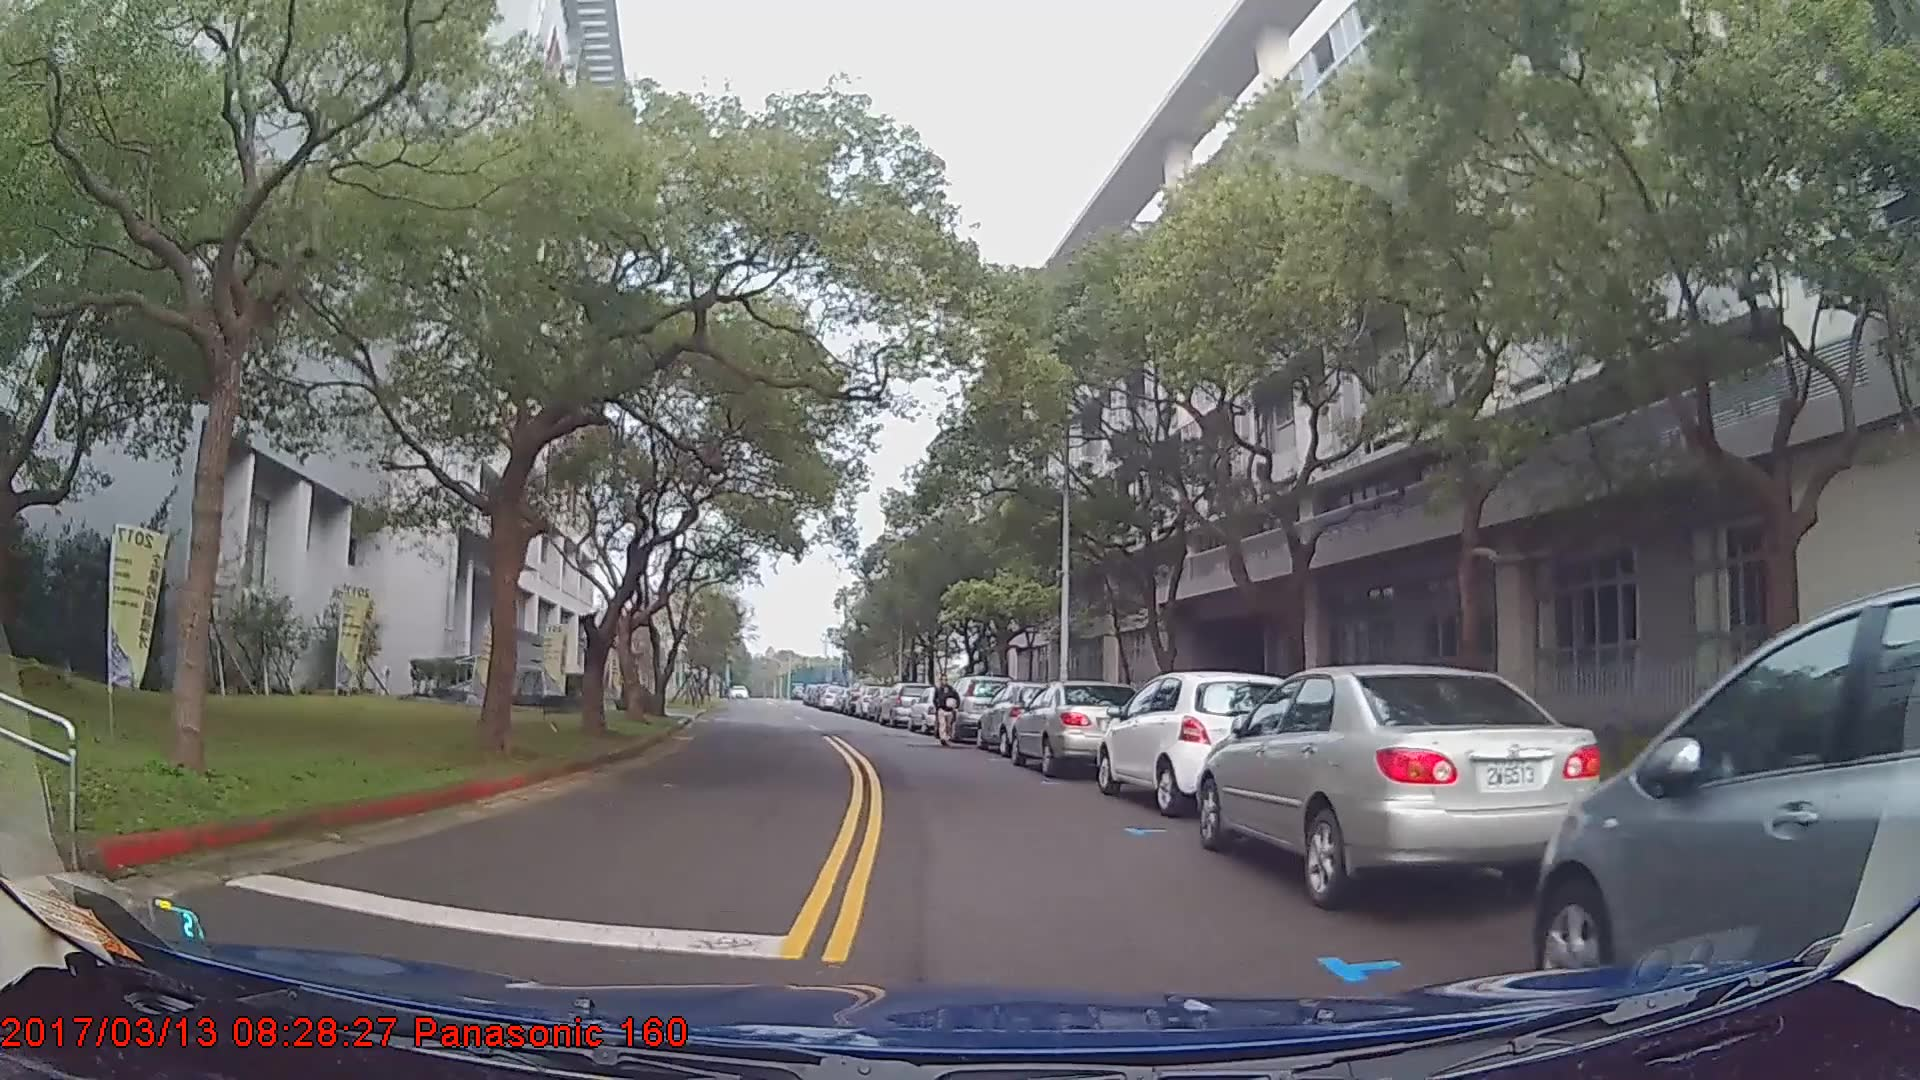pedestrian: (933, 676, 960, 751)
vehicle: (1532, 585, 1920, 999), (1195, 661, 1605, 911), (1097, 669, 1296, 818), (1011, 681, 1143, 780), (976, 681, 1077, 760), (944, 676, 1013, 745), (873, 681, 932, 728)
